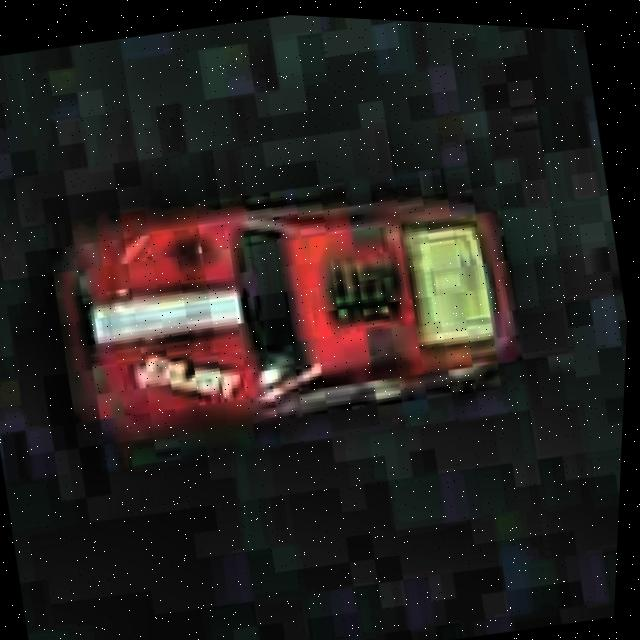car: (28, 148, 541, 479)
